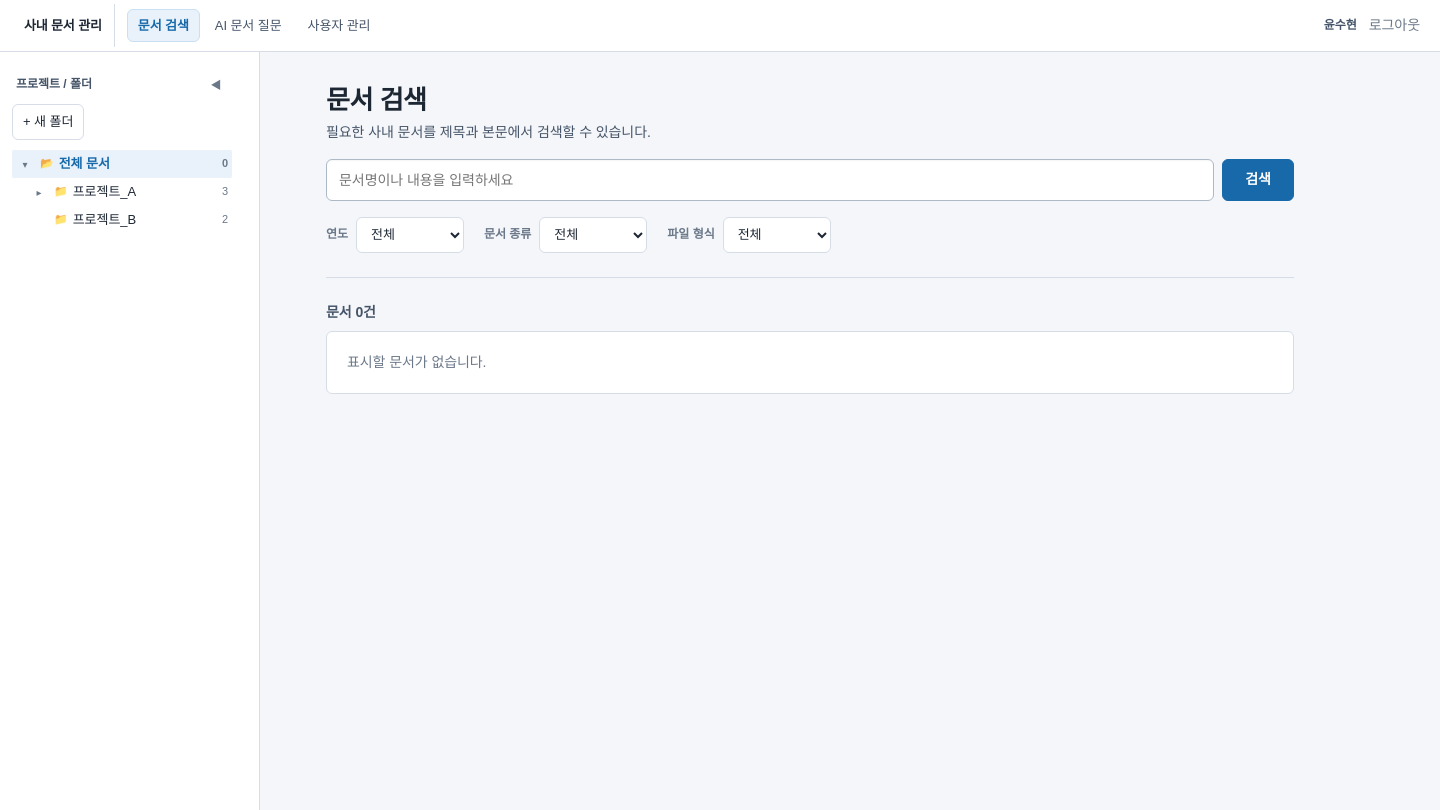
Test: SearchPage · new folder (administrators) › keeps the dialog open and shows the server message when the name is taken
Click the button "+ 새 폴더".
click(48, 122)  # box [12,104,84,140]
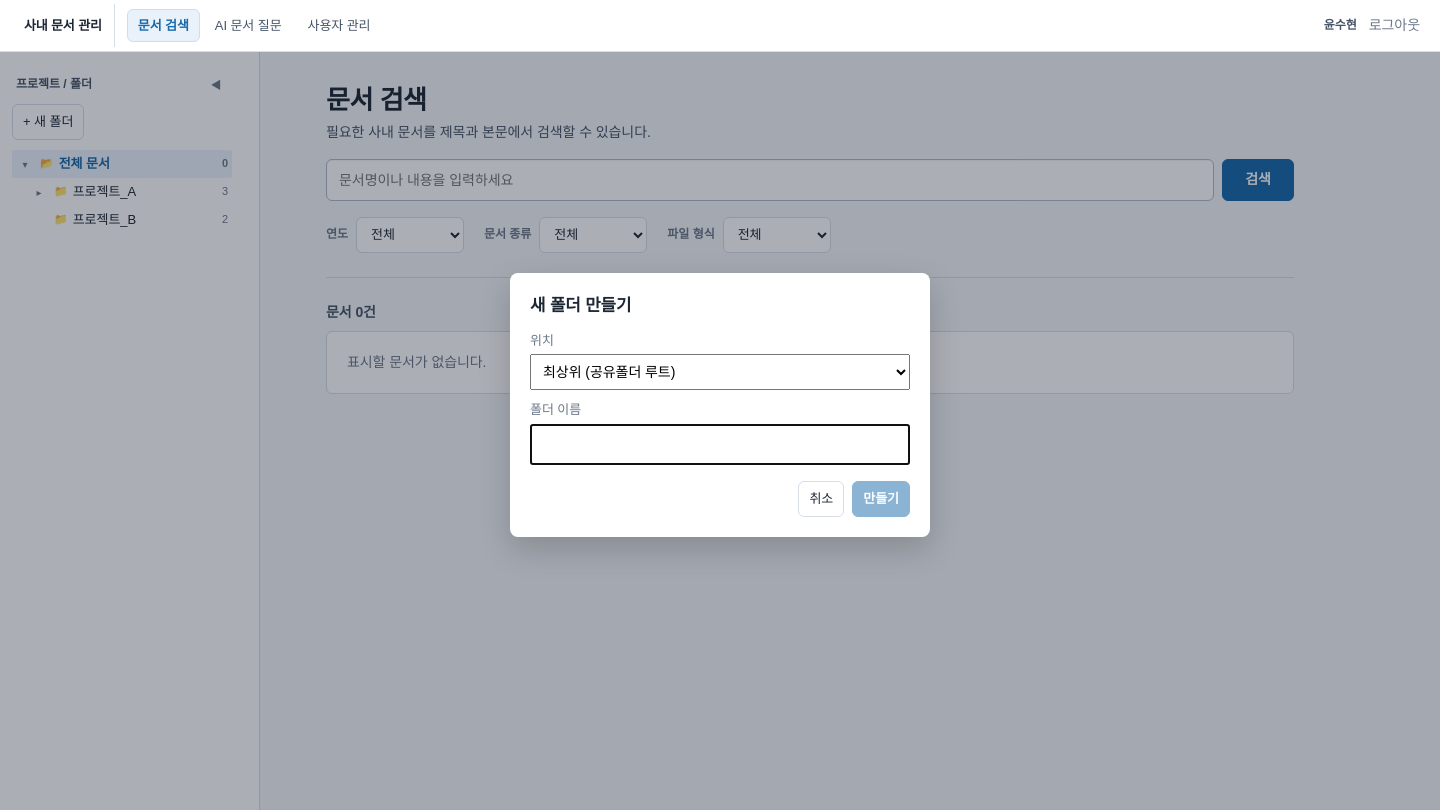
Type "HELLO" into the field labelled "폴더 이름".
click(720, 444); type("HELLO")  # box [530,424,910,465]
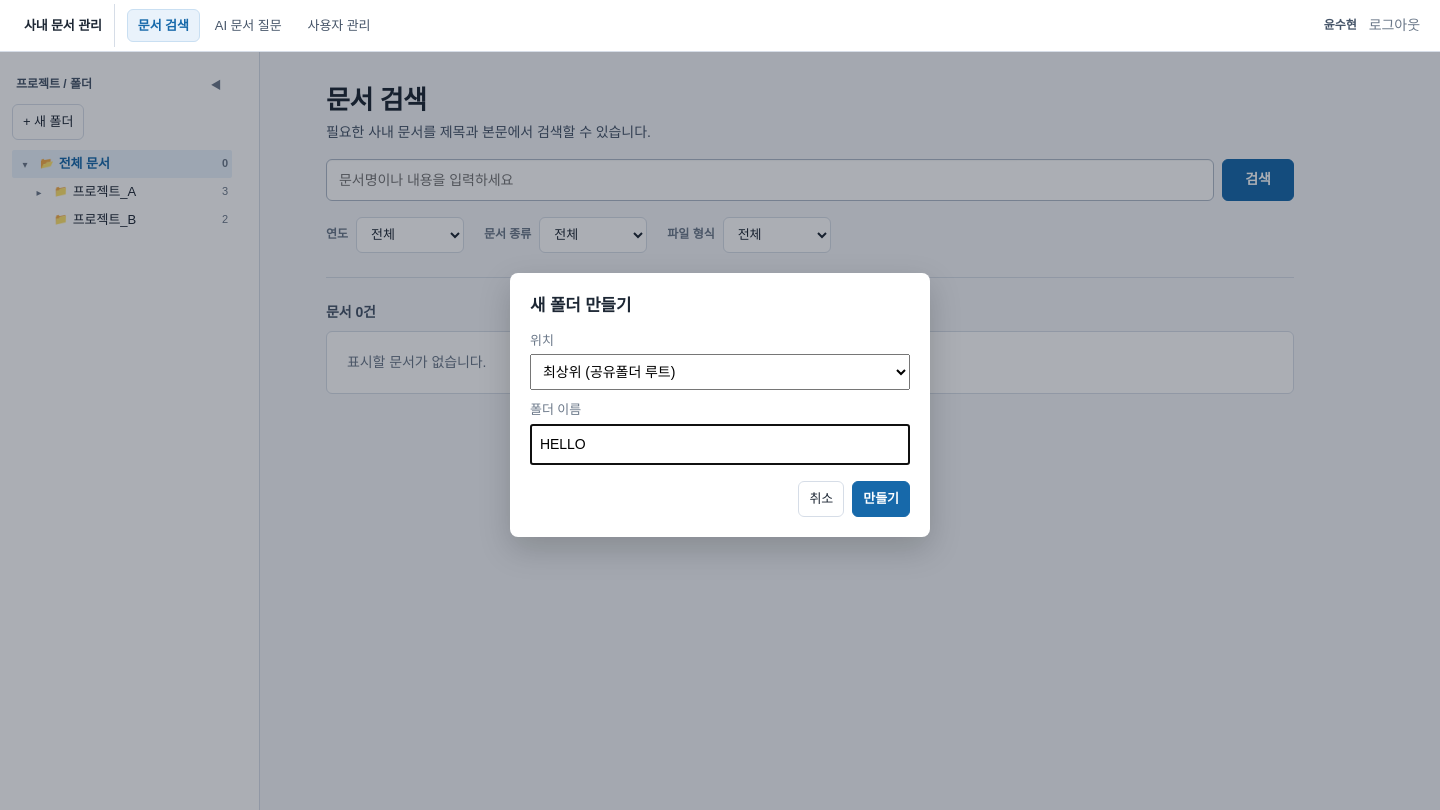
Click the button "만들기".
click(881, 499)  # box [852,481,910,517]
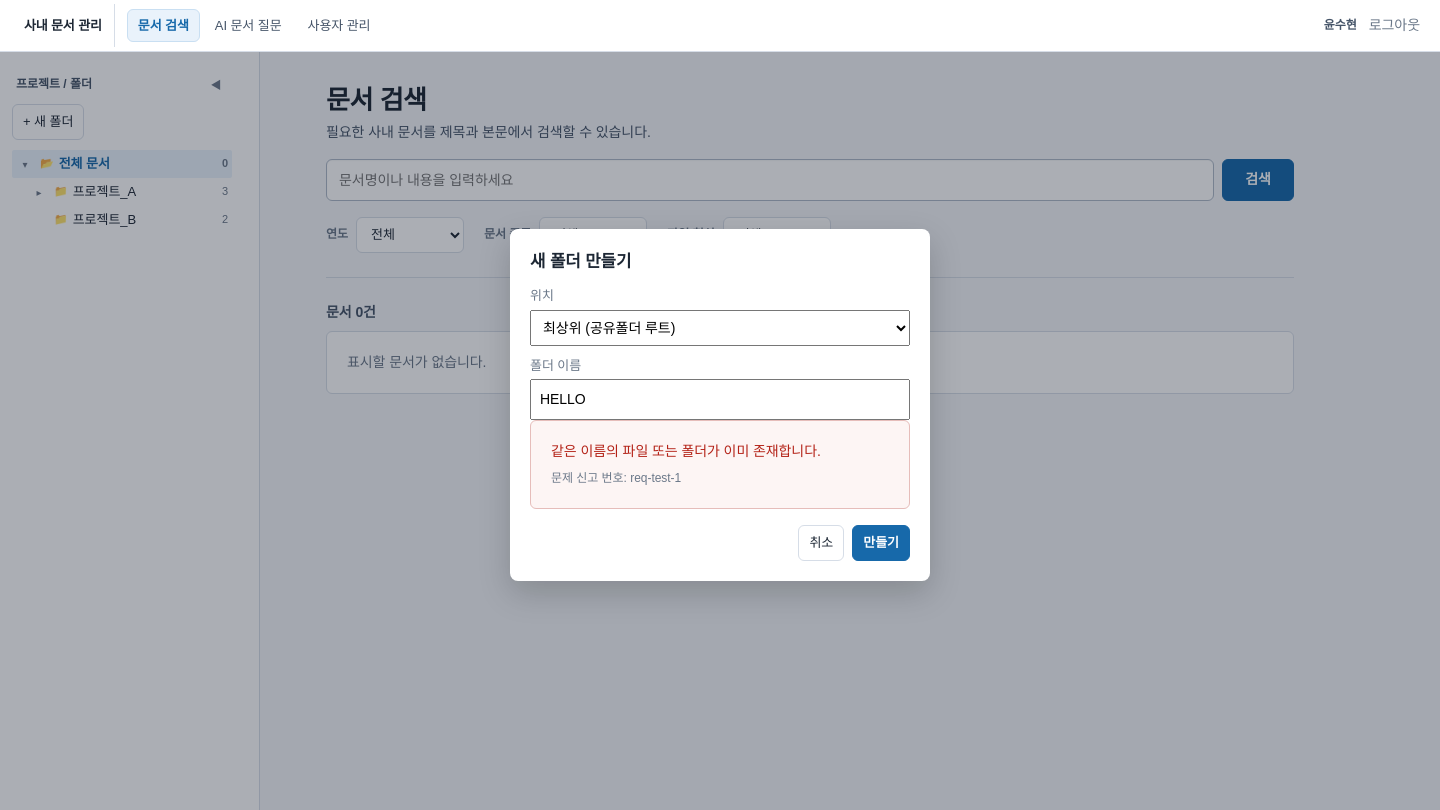
Expected: the dialog "새 폴더 만들기" is shown, [510,229,930,581]
Expected: the text "같은 이름의 파일 또는 폴더가 이미 존재합니다." is shown, [551,443,821,459]
